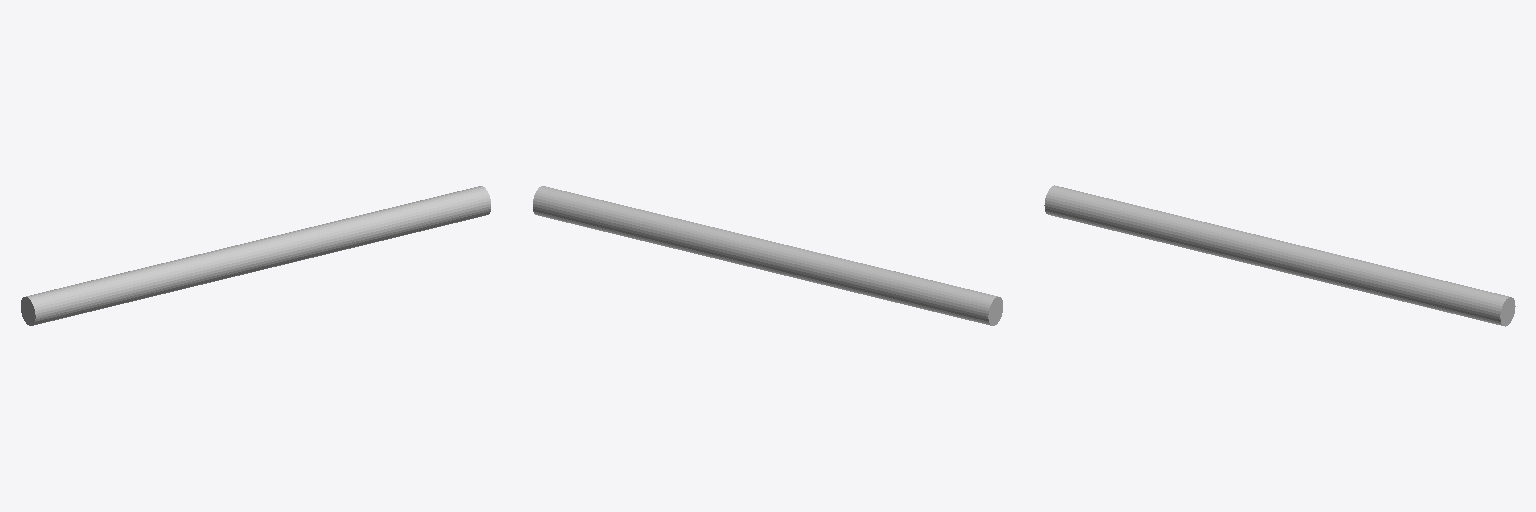
URDF robot description (rod):
<?xml version="1.0" encoding="utf-8"?>
<robot name="rod">
  <link name="rod_Link">
    <inertial>
      <origin xyz="0 0 0" rpy="0 0 0"/>
      <mass value="0.8"/>
      <inertia ixx="0.001" iyy="0.001" izz="0.0005" ixy="0" ixz="0" iyz="0"/>
    </inertial>
    <visual>
      <origin xyz="0 0 0" rpy="0 -1.57 0"/>
      <geometry><cylinder length="0.8" radius="0.023"/></geometry>
      <material name="gray"><color rgba="0.8 0.8 0.8 1"/></material>
    </visual>
    <collision>
      <origin xyz="0 0 0" rpy="0 -1.57 0"/>
      <geometry><cylinder length="0.8" radius="0.023"/></geometry>
    </collision>
  </link>
</robot>

--- Render facts (derived) ---
The picture shows the robot from 3 angles, left to right: view 1: azimuth 30°, elevation 25°; view 2: azimuth 150°, elevation 25°; view 3: azimuth 330°, elevation 25°; orthographic projection.
Robot: rod — 1 links, 0 joints (none); root link rod_Link; default pose: every joint at zero.
Links seen in each view (by area): view 1: rod_Link; view 2: rod_Link; view 3: rod_Link.
Boxes of the visible links, x1=… form: rod_Link: x1=21, y1=186, x2=490, y2=325; rod_Link: x1=533, y1=186, x2=1002, y2=325; rod_Link: x1=1044, y1=185, x2=1515, y2=326.
Size in the robot's own frame: 0.8 by 0.046 by 0.0466 metres.
Geometry: primitives only (box / cylinder / sphere), no mesh files.
